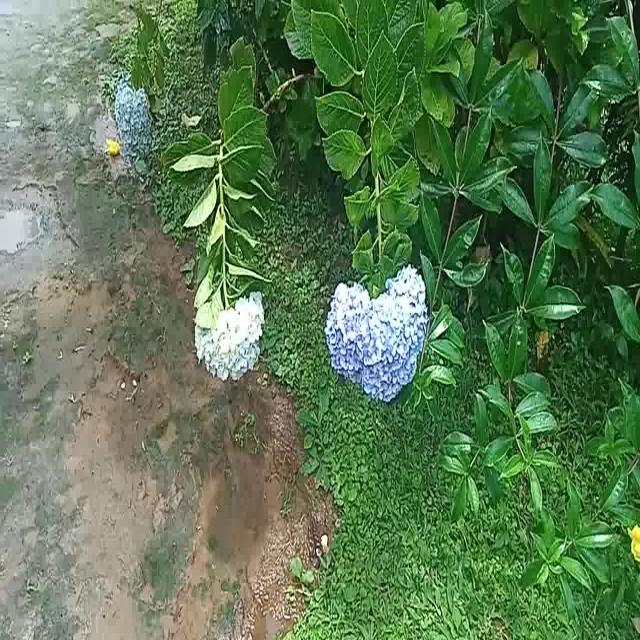Flower: (327, 265, 428, 407), (195, 292, 263, 382), (114, 77, 152, 151)
